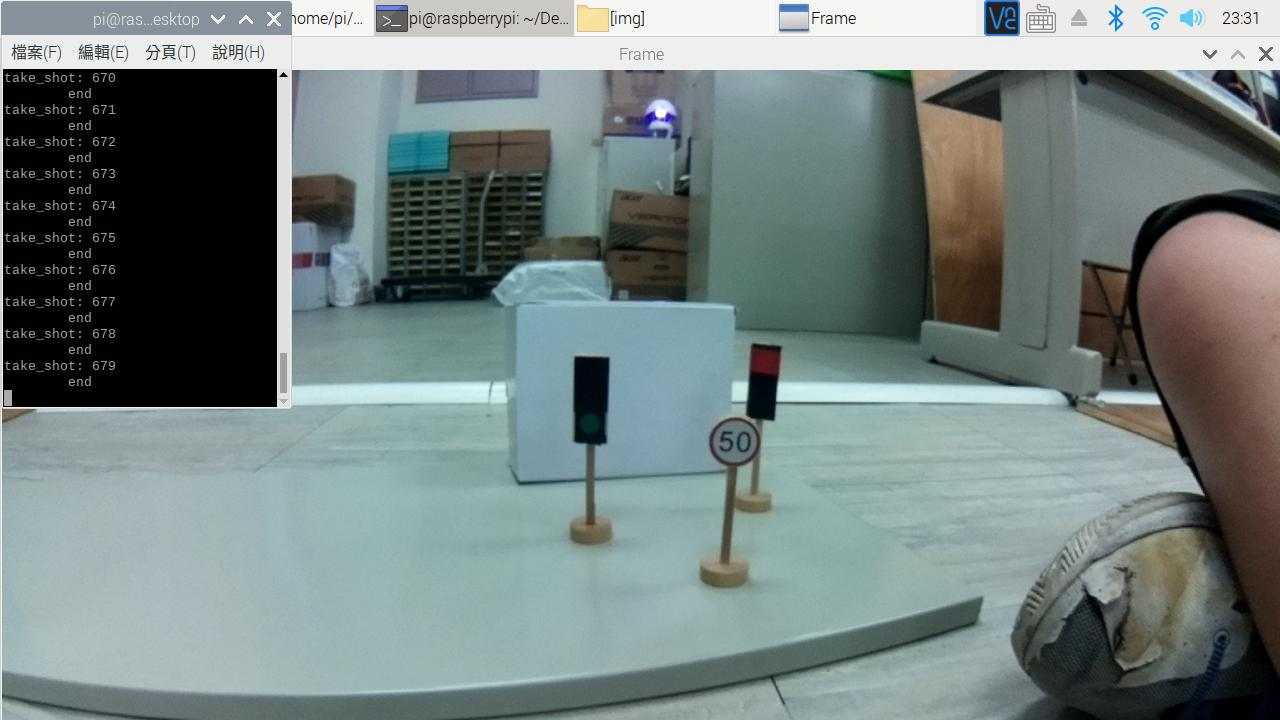Green: (557, 338, 618, 459)
Red: (744, 334, 786, 429)
Speed50: (701, 414, 774, 479)
